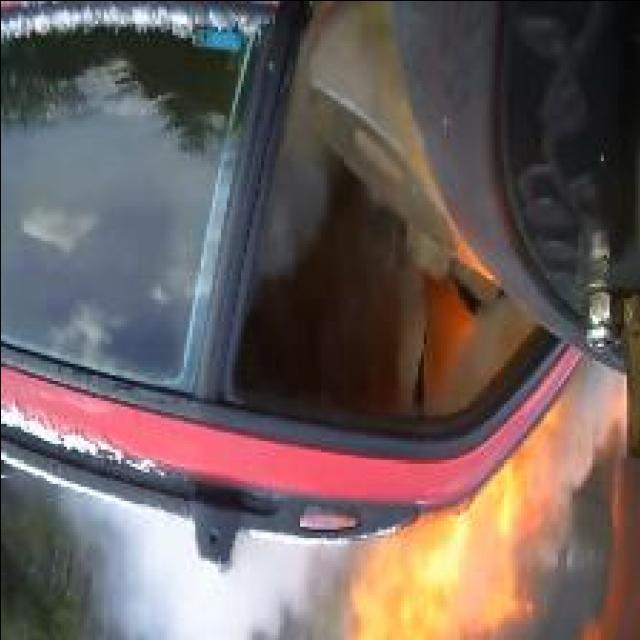Fire: (348, 394, 566, 640)
